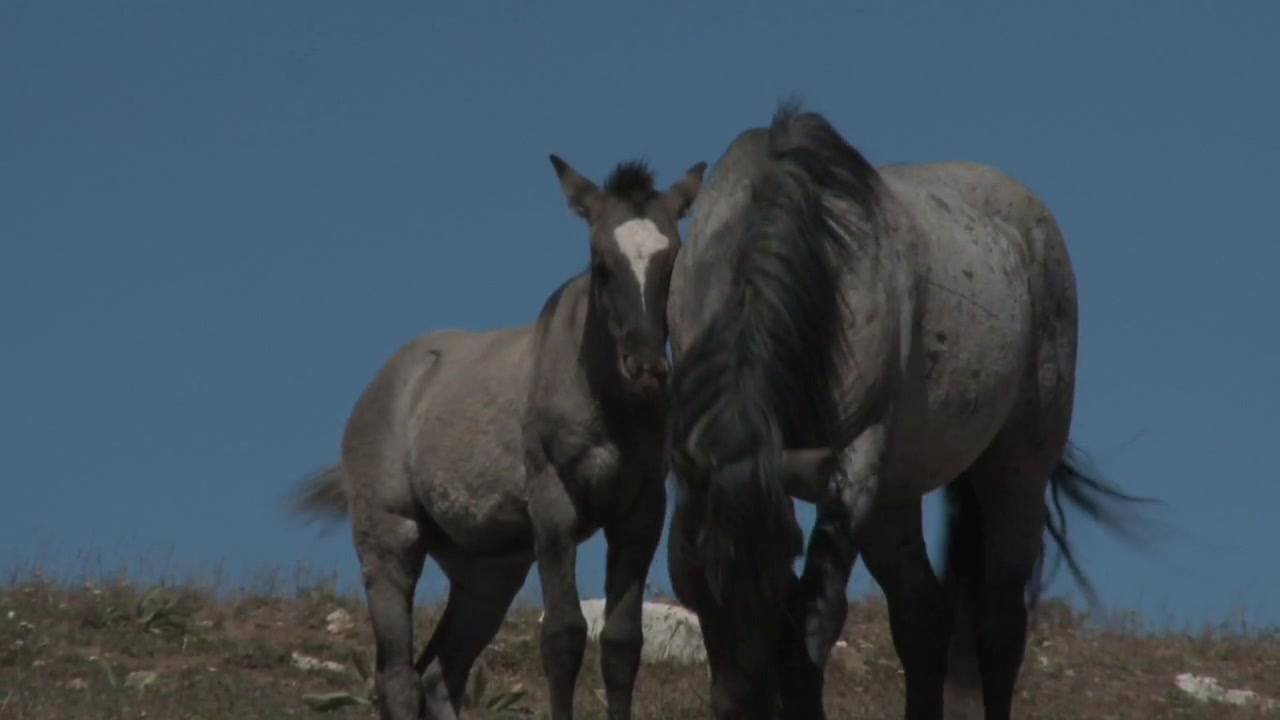horse: (659, 95, 1176, 720), (287, 149, 719, 720)
